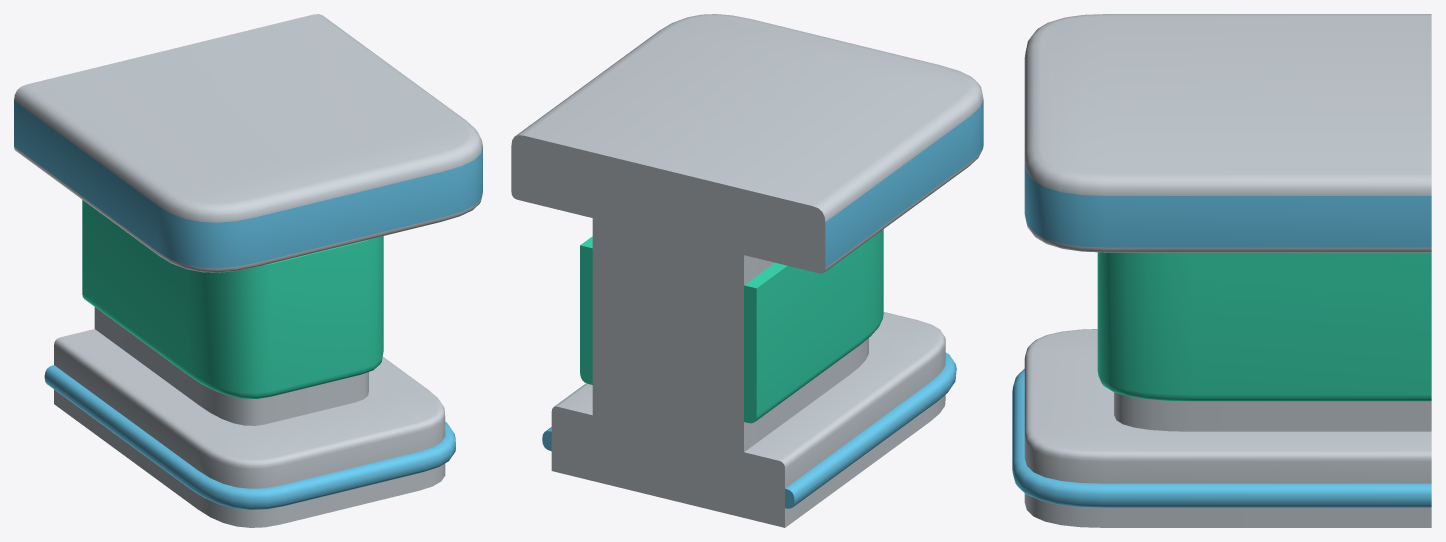
The model's file is Kitchen_Counter_End_V1.fbx.
3 views of the same model, side by side, from view 1: azimuth 30°, elevation 25°; view 2: azimuth 150°, elevation 25°; view 3: azimuth 270°, elevation 25° (orthographic). The views are drawn at different scales.
Visible parts, largest first — view 1: Counter_End_V1; view 2: Counter_End_V1; view 3: Counter_End_V1.
Boxes of the visible parts, left/top/right/bottom form: Counter_End_V1: left=14, top=14, right=482, bottom=527; Counter_End_V1: left=511, top=14, right=983, bottom=527; Counter_End_V1: left=1012, top=14, right=1431, bottom=527.
Bounding box in the file's own units: 100 × 100 × 103.
